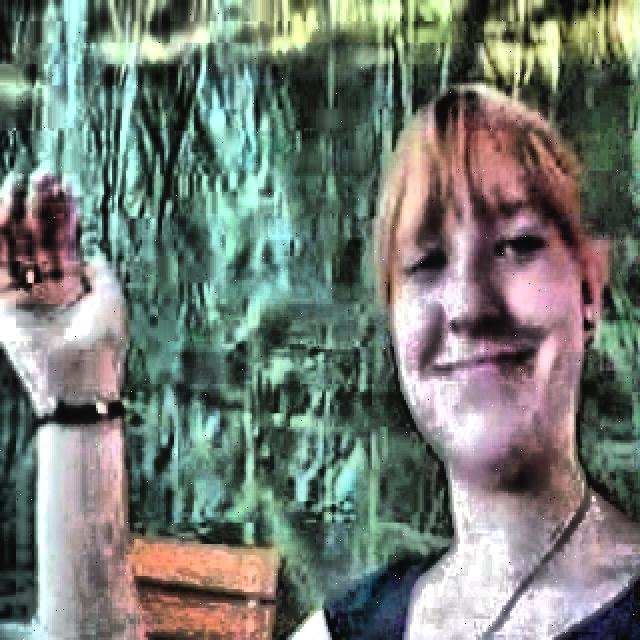T: (6, 86, 636, 634)
